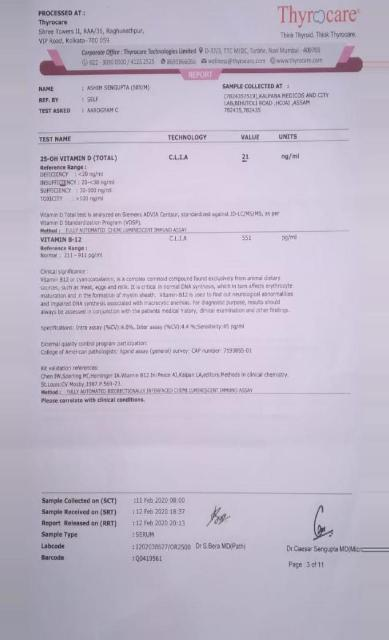Clinical_Conditions: (37, 266, 306, 317)
Name: (86, 83, 152, 92)
Ref_By: (86, 94, 102, 103)
Technology: (167, 233, 192, 246), (168, 150, 191, 164)
Test_Asked: (86, 105, 123, 116)
Test_Name: (37, 148, 121, 206), (40, 234, 113, 263)
Unit: (280, 150, 302, 163), (280, 232, 300, 244)
Value: (241, 151, 252, 165), (241, 233, 256, 243)
